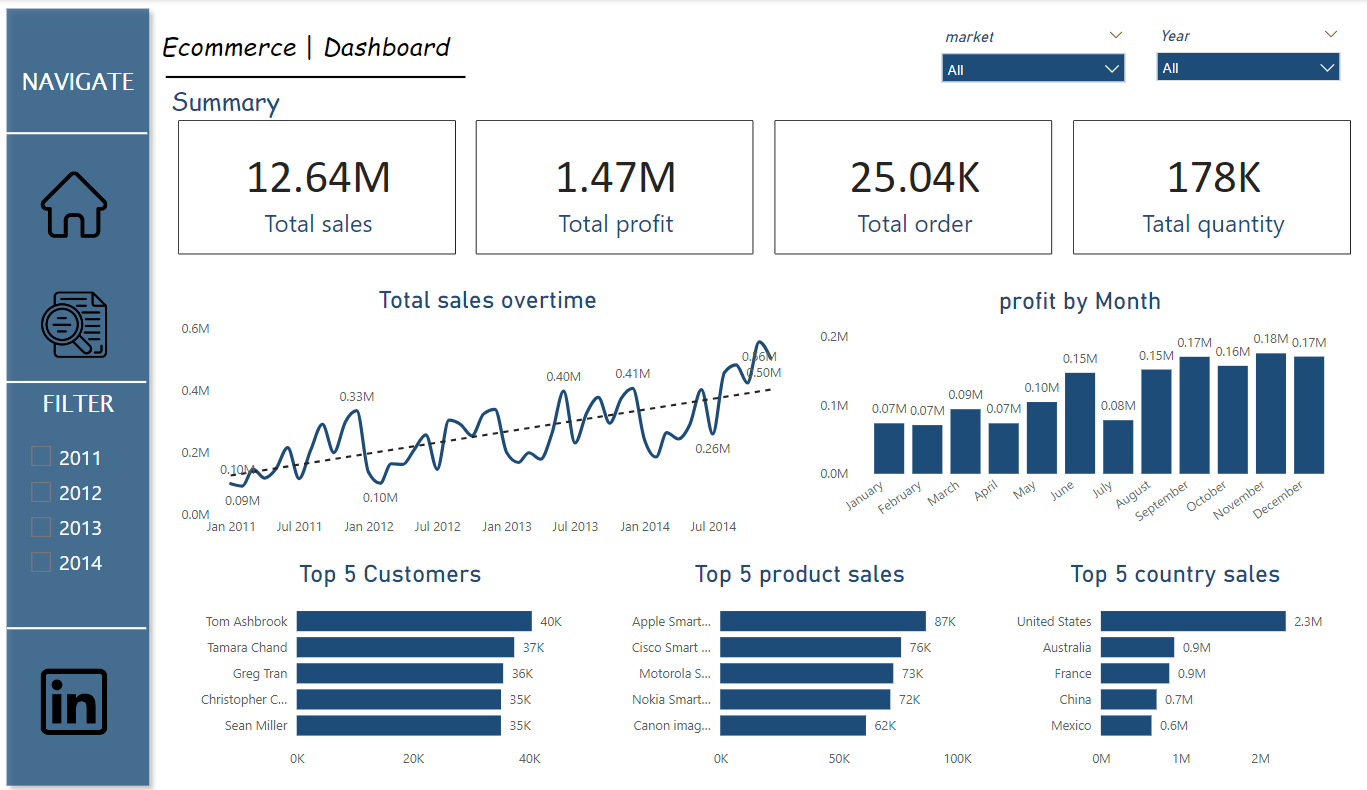

Layout of this report page (visuals, bound fields, positions):
{"tool":"powerbi","page":{"name":"Summary","canvas":[1300,750],"ordinal":0},"visuals":[{"type":"shape","box":[0,0,152.4,750.2],"z":0},{"type":"textbox","box":[0,57.1,145.1,48.4],"z":1000},{"type":"image","box":[36.5,158.2,71.8,71.8],"z":2000},{"type":"shape","box":[8.8,93.8,133.3,64.5],"z":3000},{"type":"image","box":[36.5,271.4,71.8,71.8],"z":4000},{"type":"shape","box":[7.3,328.7,133.9,64.5],"z":5000},{"type":"textbox","box":[0,361.5,146.1,48.7],"z":6000},{"type":"slicer","fields":{"Values":["sales_fact.Order_Date.Variation.Date Hierarchy.Year"]},"box":[18.3,410.2,109.6,142.4],"z":7000},{"type":"shape","box":[9.7,561.1,131.5,64.5],"z":8000},{"type":"image","box":[36.5,625.7,71.8,73],"z":9000},{"type":"shape","box":[159.5,41.4,282.4,64.5],"z":10000},{"type":"textbox","box":[149.7,21.9,300.7,56],"z":11000},{"type":"textbox","box":[159.5,74.3,157,56],"z":12000},{"type":"group","id":"g1","title":"Filter","box":[879.8,21.2,395.7,84.8],"z":13000},{"type":"card","title":"Total Sales","fields":{"Values":["Sum(sales_fact.sales)"]},"box":[170.4,114.4,261.7,126.6],"z":14000},{"type":"card","title":"Total Sales","fields":{"Values":["Sum(sales_fact.profit)"]},"box":[451.6,114.4,261.7,126.6],"z":15000},{"type":"card","title":"Total Sales","fields":{"Values":["Count(sales_fact.order_detail)"]},"box":[732.8,114.4,261.7,126.6],"z":16000},{"type":"card","title":"Total Sales","fields":{"Values":["Sum(sales_fact.quantity)"]},"box":[1014,114.4,261.7,126.6],"z":17000},{"type":"lineChart","title":"Total sales overtime","fields":{"Y":["Sum(sales_fact.sales)"],"Category":["sales_fact.Order_Date.Variation.Date Hierarchy.Year","sales_fact.Order_Date.Variation.Date Hierarchy.Quarter","sales_fact.Order_Date.Variation.Date Hierarchy.Month","sales_fact.Order_Date.Variation.Date Hierarchy.Day"]},"box":[168.5,269.6,587.6,246.2],"z":18000},{"type":"columnChart","title":"profit by Month","fields":{"Category":["sales_fact.Order_Date.Variation.Date Hierarchy.Month"],"Y":["Sum(sales_fact.profit)"]},"box":[770.5,271.4,500.3,244.7],"z":19000},{"type":"barChart","title":"Top 5 country sales","fields":{"Category":["store_dim.country"],"Y":["Sum(sales_fact.sales)"]},"box":[949.3,527.6,321.5,206.1],"z":20000},{"type":"barChart","title":"Top 5 product sales","fields":{"Y":["Sum(sales_fact.sales)"],"Category":["product_dim.name"]},"box":[580.6,527.6,351,206.1],"z":21000},{"type":"barChart","title":"Top 5 Customers ","fields":{"Y":["Sum(sales_fact.sales)"],"Category":["customer_DIM.name"]},"box":[169.6,527.6,401.6,206.1],"z":22000},{"type":"slicer","fields":{"Values":["sales_fact.Order_Date.Variation.Date Hierarchy.Year"]},"box":[1082.4,21.2,193.5,84],"z":36000,"group":"g1"},{"type":"slicer","fields":{"Values":["store_dim.market"]},"box":[879.8,22.5,193.4,83.5],"z":37000,"group":"g1"}]}

Visuals, with their boxes in screenshot pixels (x1, y1, x2, y2), scaled from the page's 1300x750 canvas onto the 1367x790 screenshot:
shape: box(0, 0, 160, 789)
textbox: box(0, 60, 153, 111)
image: box(38, 167, 114, 242)
shape: box(9, 99, 149, 167)
image: box(38, 286, 114, 362)
shape: box(8, 346, 148, 414)
textbox: box(0, 381, 154, 432)
slicer - sales_fact.Order_Date.Variation.Date Hierarchy.Year: box(19, 432, 134, 582)
shape: box(10, 591, 148, 659)
image: box(38, 659, 114, 736)
shape: box(168, 44, 465, 112)
textbox: box(157, 23, 474, 82)
textbox: box(168, 78, 333, 137)
"Filter" group: box(925, 22, 1341, 112)
"Total Sales" card: box(179, 121, 454, 254)
"Total Sales" card: box(475, 121, 750, 254)
"Total Sales" card: box(771, 121, 1046, 254)
"Total Sales" card: box(1066, 121, 1341, 254)
"Total sales overtime" lineChart: box(177, 284, 795, 543)
"profit by Month" columnChart: box(810, 286, 1336, 544)
"Top 5 country sales" barChart: box(998, 556, 1336, 773)
"Top 5 product sales" barChart: box(611, 556, 980, 773)
"Top 5 Customers " barChart: box(178, 556, 601, 773)
slicer - sales_fact.Order_Date.Variation.Date Hierarchy.Year: box(1138, 22, 1342, 111)
slicer - store_dim.market: box(925, 24, 1129, 112)
